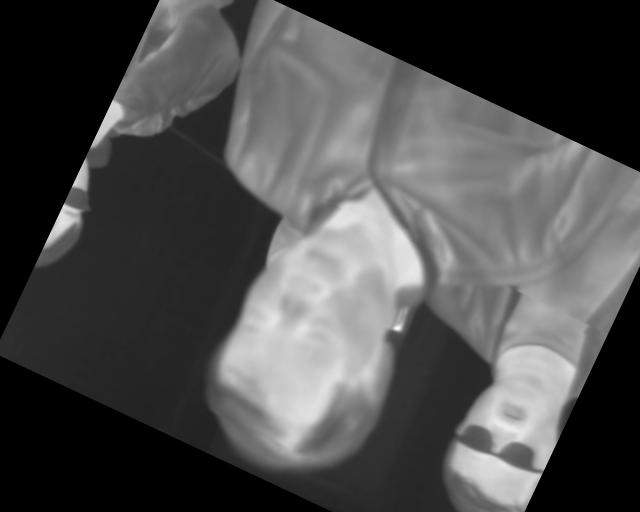face: (176, 195, 447, 503), (416, 357, 576, 512)
